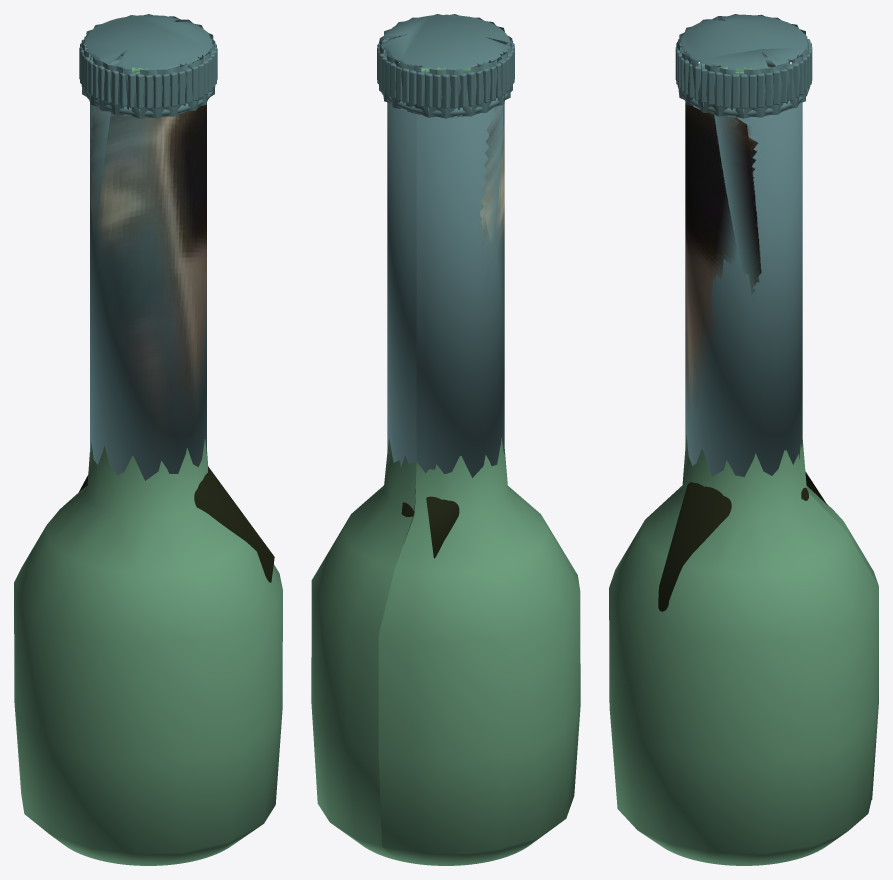
3 renders of one model, left to right at view 1: azimuth 30°, elevation 25°; view 2: azimuth 150°, elevation 25°; view 3: azimuth 270°, elevation 25°, orthographic.
Parts seen in each view (by area): view 1: thin shell with corrected shoulder, long photographed neck sleeve, removable closure, small bottle contents, closure lower bead; view 2: thin shell with corrected shoulder, long photographed neck sleeve, removable closure, small bottle contents, closure lower bead; view 3: thin shell with corrected shoulder, long photographed neck sleeve, removable closure, small bottle contents, closure lower bead.
Boxes of the visible parts, <box> form: thin shell with corrected shoulder: <box>14,72,282,865</box>; long photographed neck sleeve: <box>90,103,206,480</box>; removable closure: <box>81,14,215,118</box>; small bottle contents: <box>79,466,274,582</box>; closure lower bead: <box>84,58,212,115</box>; thin shell with corrected shoulder: <box>311,72,580,865</box>; long photographed neck sleeve: <box>387,102,504,484</box>; removable closure: <box>379,14,512,118</box>; small bottle contents: <box>401,489,459,558</box>; closure lower bead: <box>380,62,511,116</box>; thin shell with corrected shoulder: <box>609,71,878,865</box>; long photographed neck sleeve: <box>685,102,802,477</box>; removable closure: <box>677,14,809,118</box>; small bottle contents: <box>658,471,827,611</box>; closure lower bead: <box>679,56,809,115</box>.
Size of the model in its own units: 0.0402 by 0.1309 by 0.0402.
4 materials, 1 textured.
